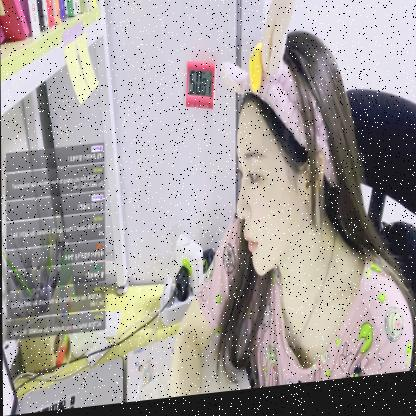streamer: (168, 0, 416, 401)
